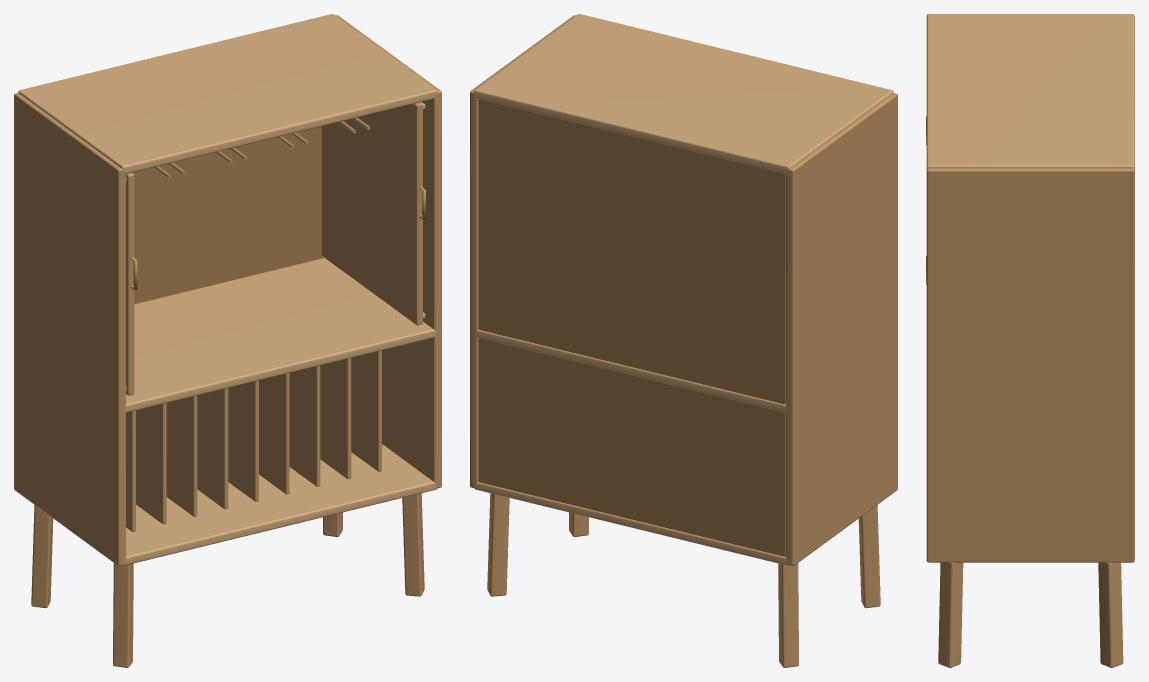
Rendered from bar-cabinet.glb.
3 renders of one model, left to right at view 1: azimuth 30°, elevation 25°; view 2: azimuth 150°, elevation 25°; view 3: azimuth 270°, elevation 25°, orthographic.
Visible parts, largest first — view 1: bar-cabinet authored assembly; view 2: bar-cabinet authored assembly; view 3: bar-cabinet authored assembly.
Boxes of the visible parts, x1,y1,x2,y2 form: bar-cabinet authored assembly: (14, 14, 441, 667); bar-cabinet authored assembly: (470, 14, 897, 667); bar-cabinet authored assembly: (926, 14, 1134, 667).
Size of the model in its own units: 0.96 by 1.44 by 0.54.
